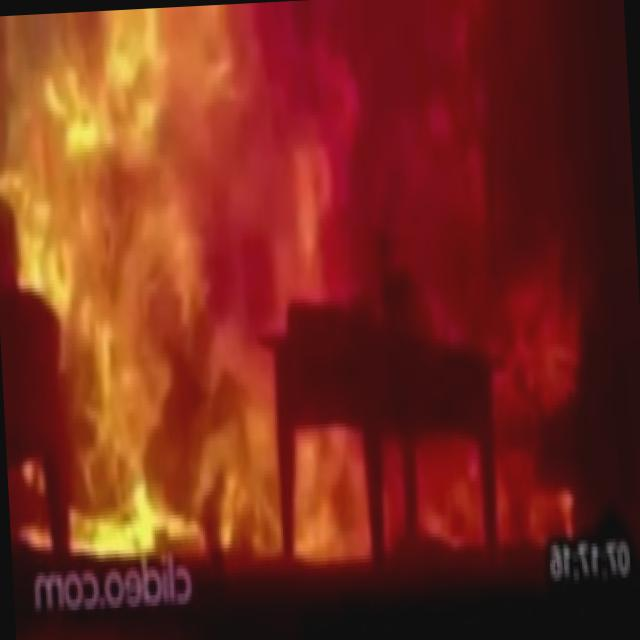fire: (0, 0, 627, 577)
